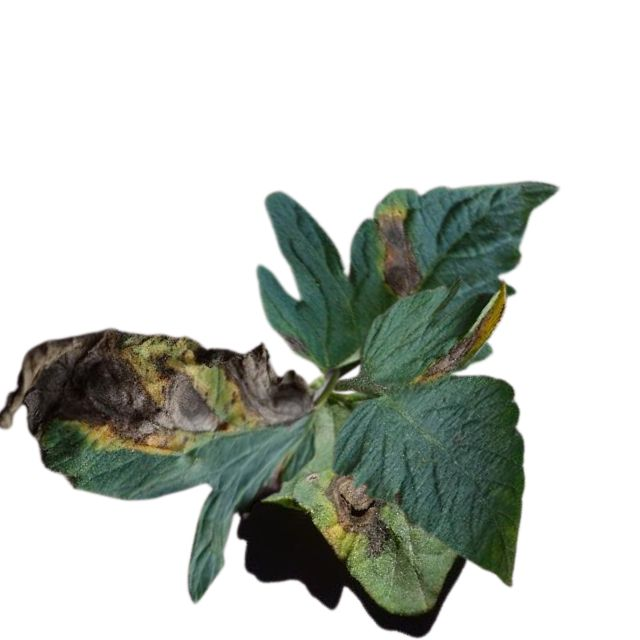Early_blight: (2, 328, 316, 456), (414, 286, 506, 382), (324, 471, 400, 555), (372, 209, 424, 299), (268, 460, 287, 490)
